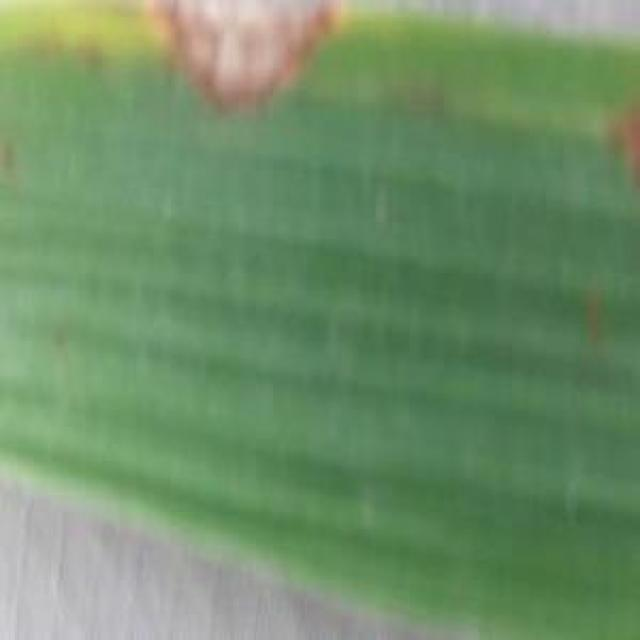Brown_Spot: (149, 0, 361, 128), (604, 96, 640, 182)
